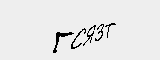Г: (49, 28, 73, 55)
З: (94, 21, 105, 46)
С: (68, 26, 87, 52)
Т: (102, 21, 118, 40)
Я: (83, 22, 95, 50)
